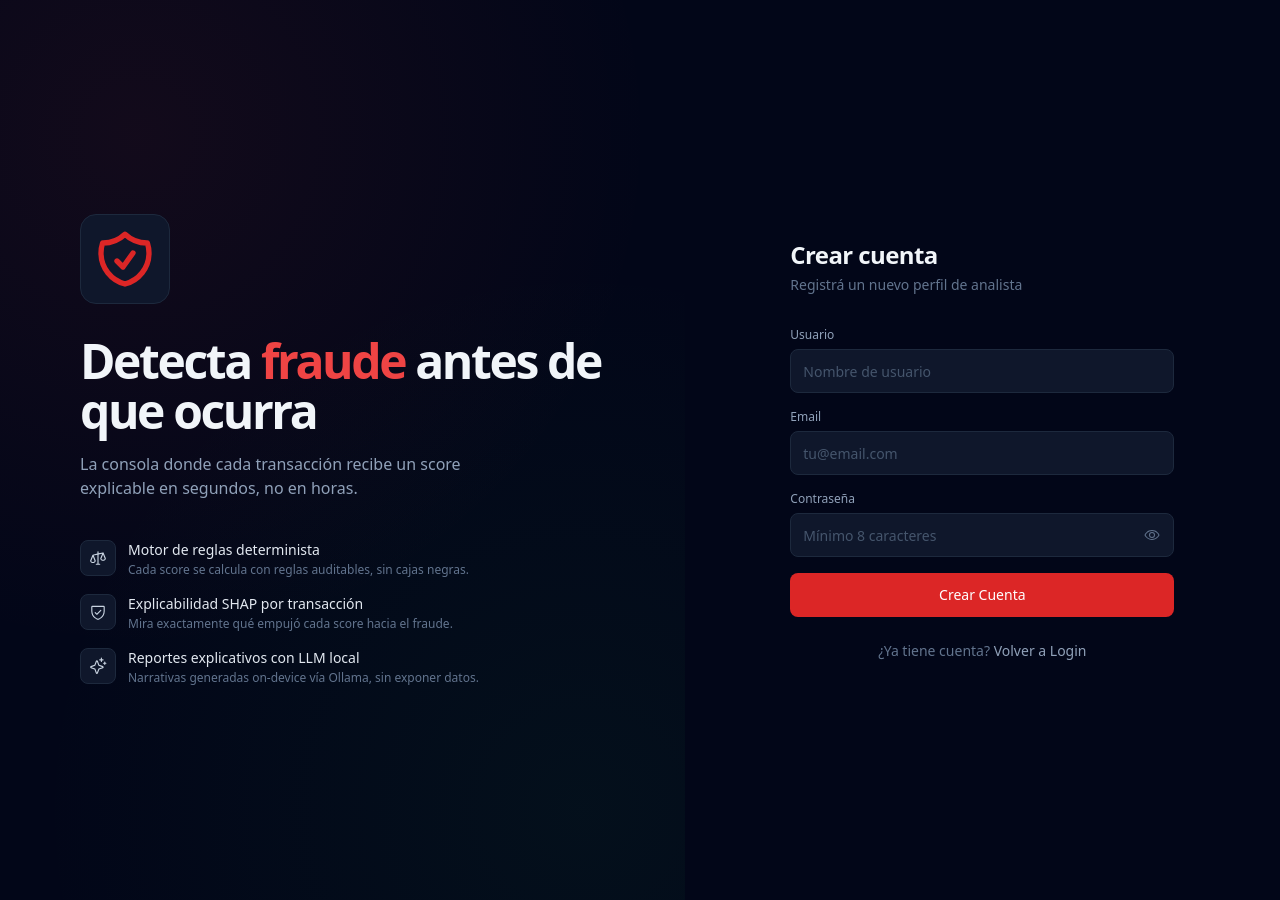
Scenario: RegisterPage › shows the reserved error line when the password is too short
This screenshot has width=1280, height=900.
Type "analyst" into the field labelled "Usuario".
click(982, 371); type("analyst")  # box [790,349,1174,393]
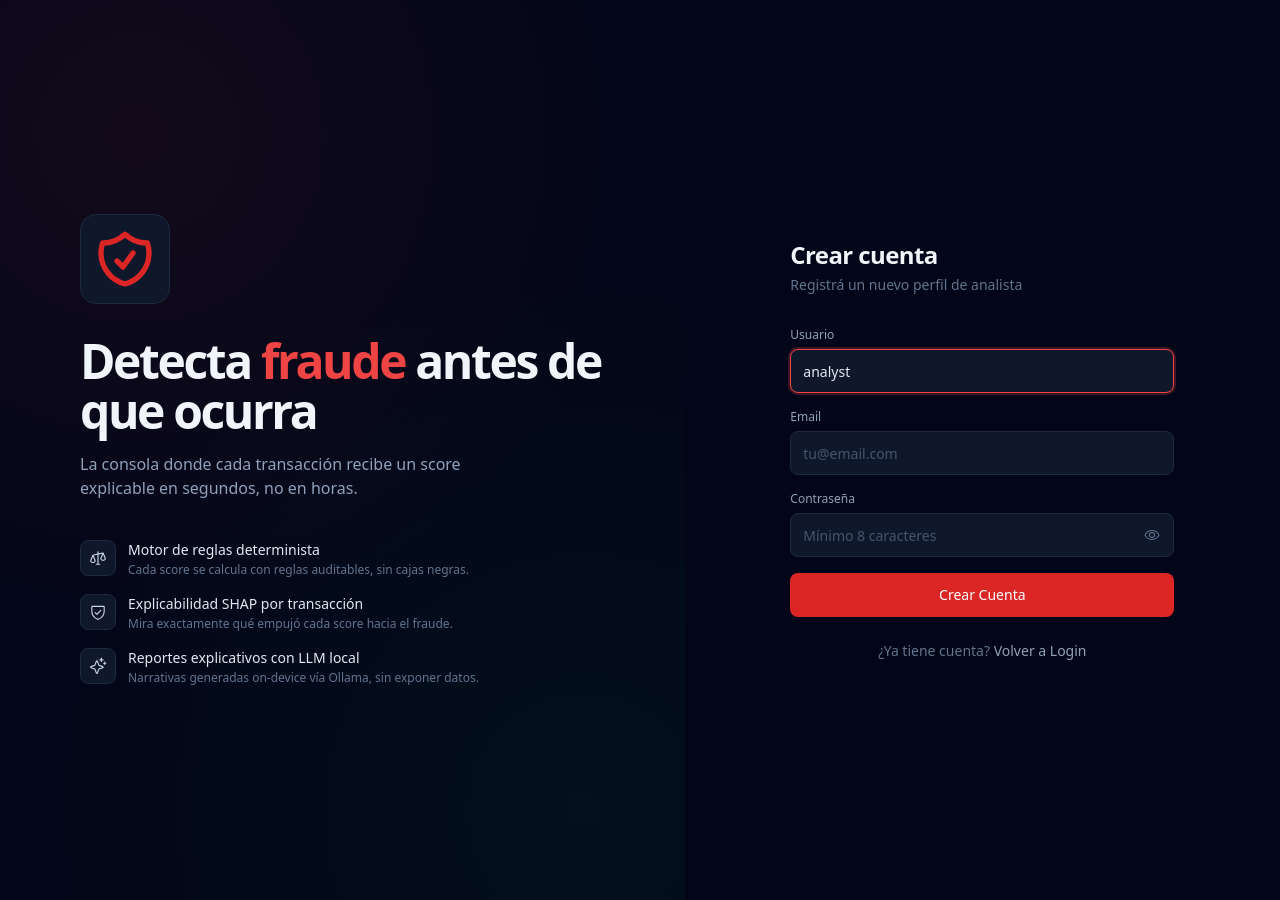
Type "a@b.com" into the field labelled "Email".
click(982, 453); type("a@b.com")  # box [790,431,1174,475]
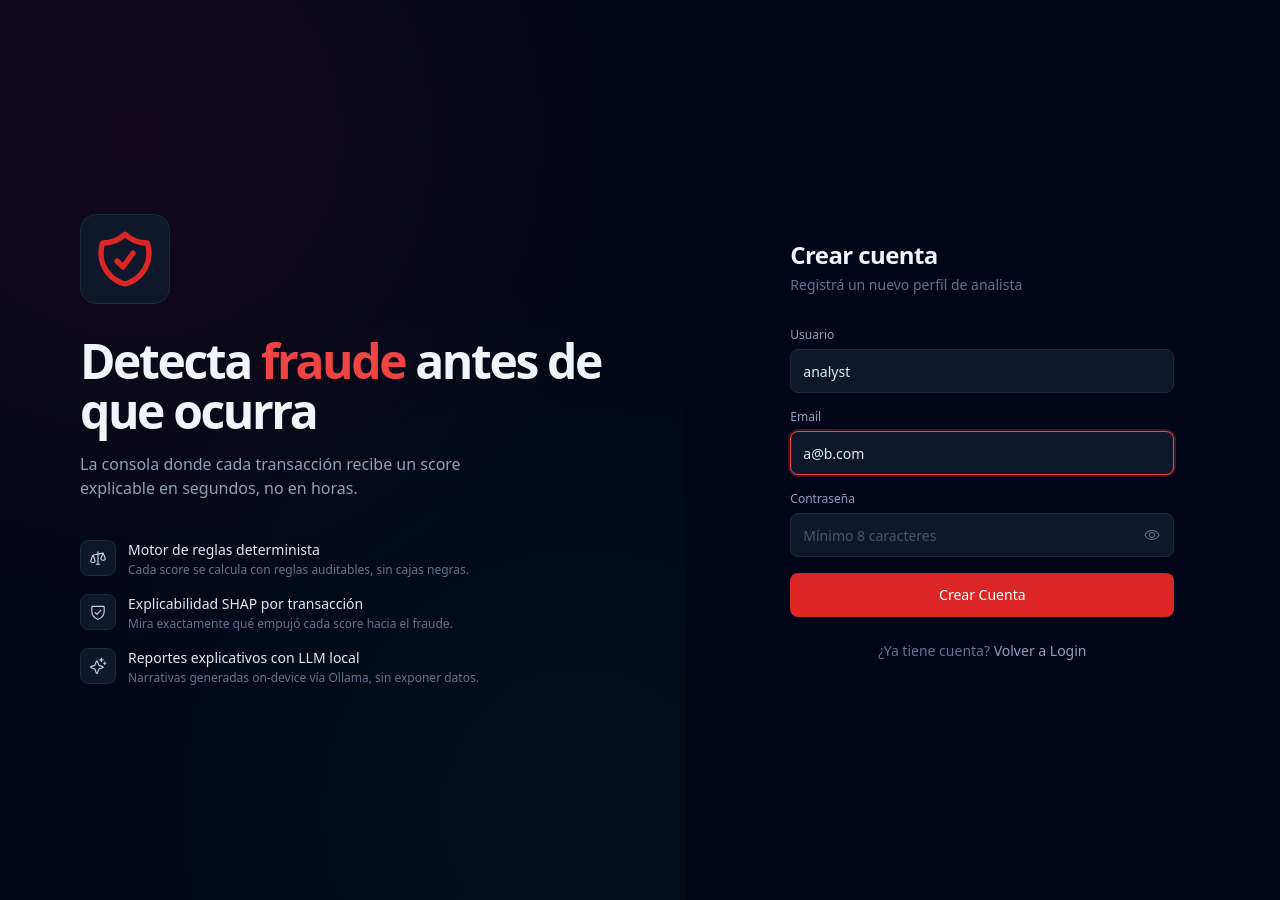
Type "short" into the password field labelled "Contraseña".
click(982, 535); type("short")  # box [790,513,1174,557]
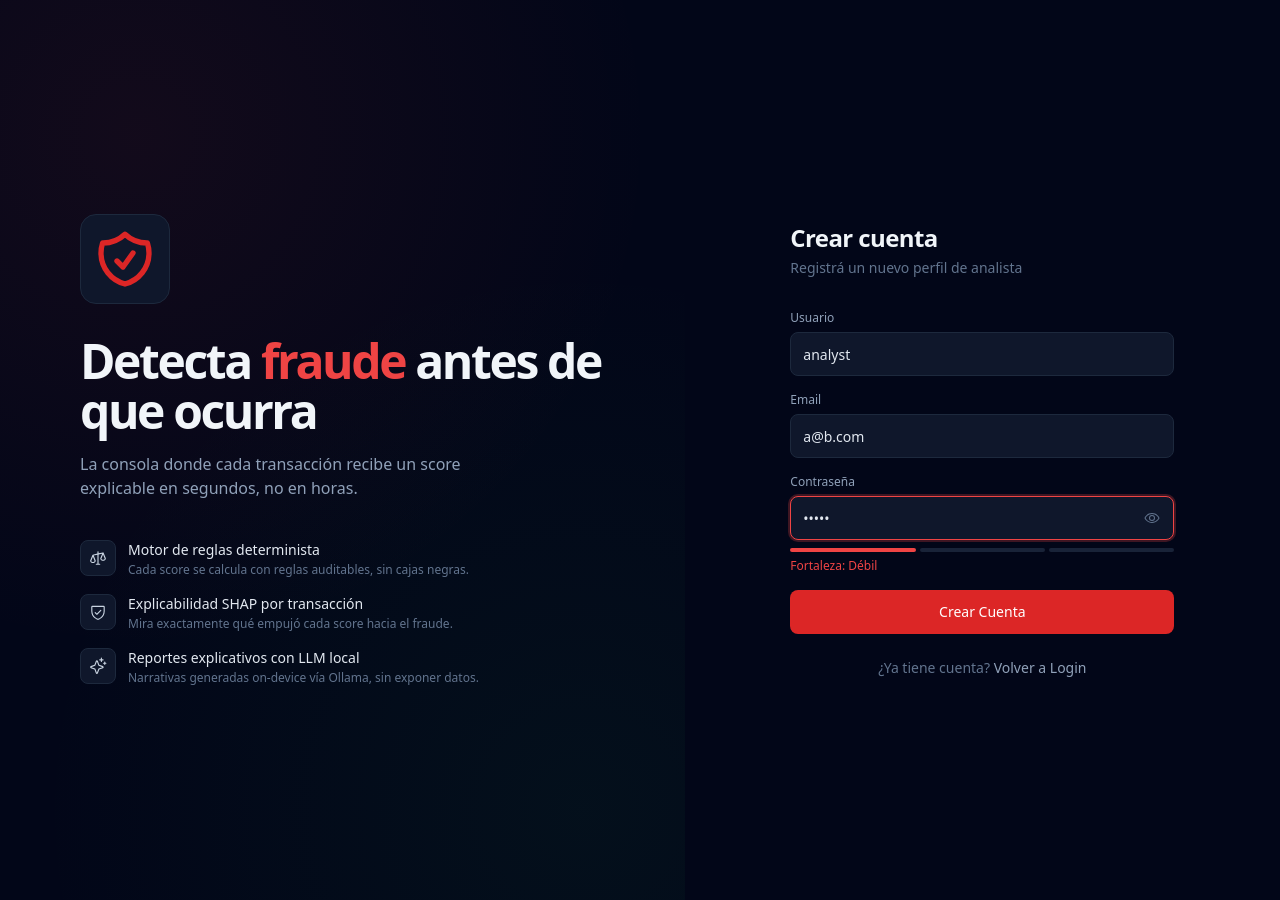
Click the button "Crear Cuenta".
click(982, 612)  # box [790,590,1174,634]
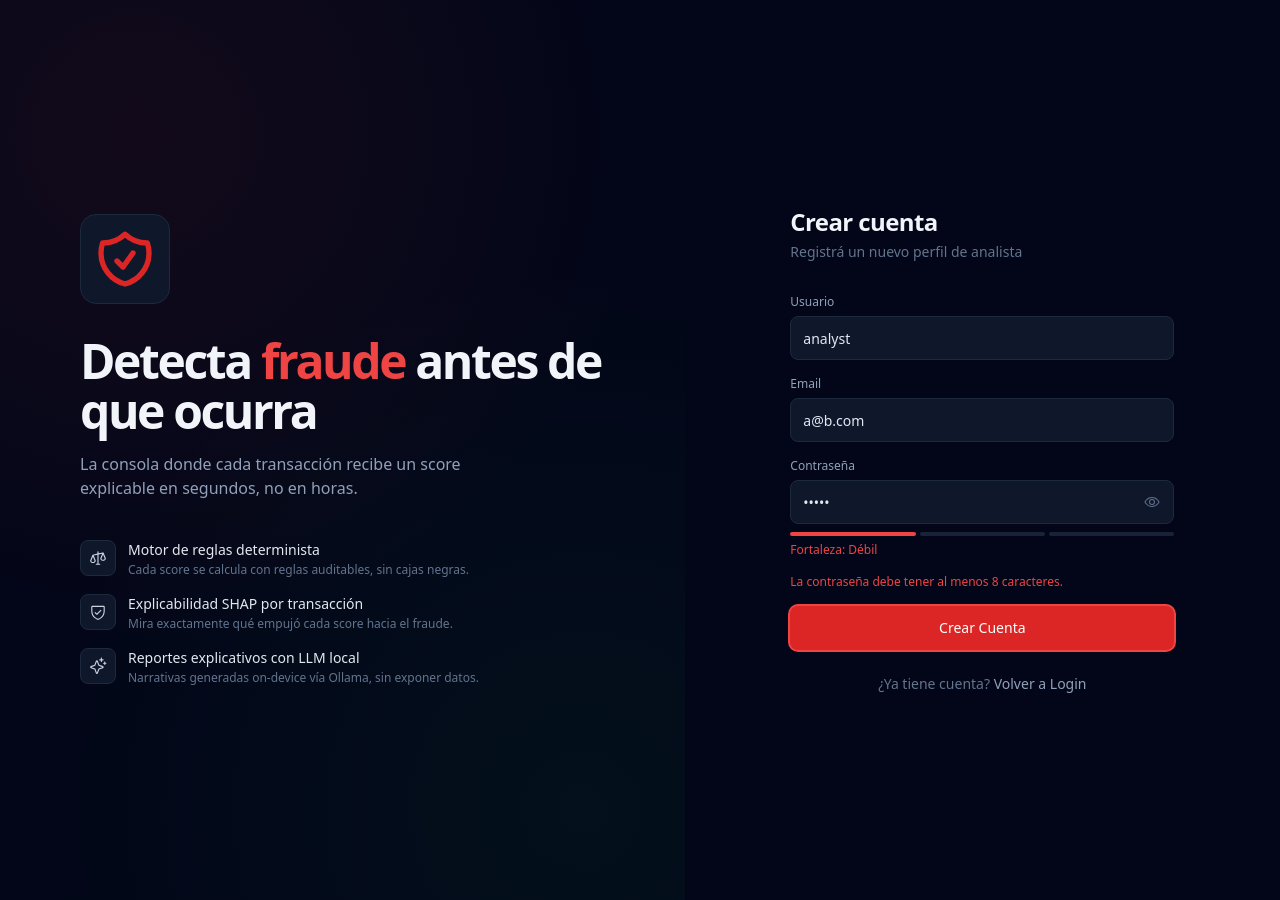
Result: the message "La contraseña debe tener al menos 8 caracteres." is shown at [790,573,1063,590]
